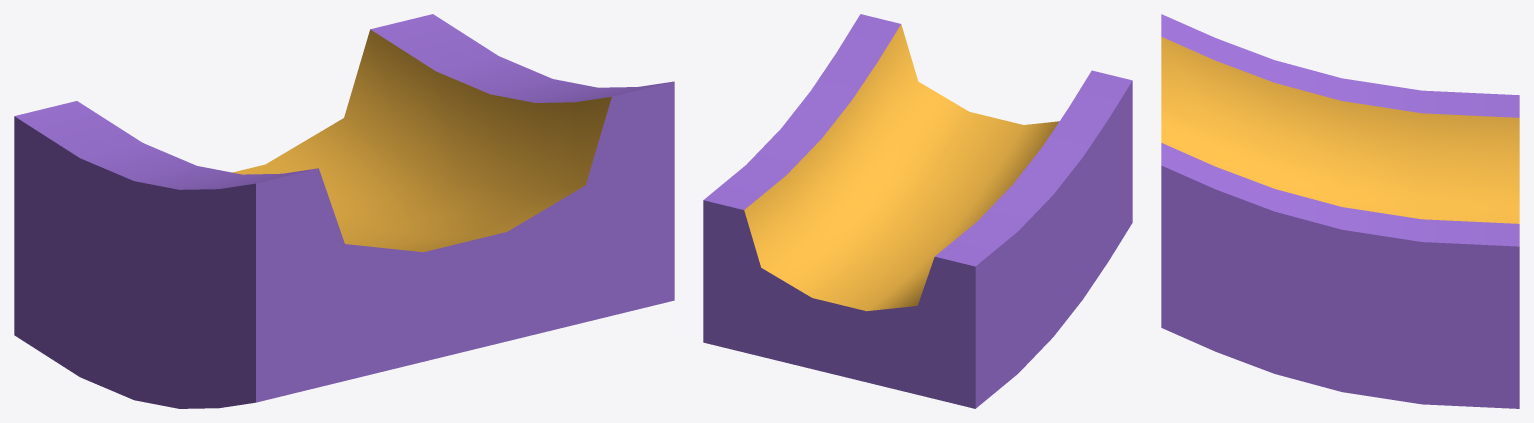
Rendered from kenney-marble-ramp-start-b.glb.
The picture shows the model from 3 angles, left to right: view 1: azimuth 30°, elevation 25°; view 2: azimuth 150°, elevation 25°; view 3: azimuth 270°, elevation 25°; orthographic projection. The views are drawn at different scales.
Visible parts, largest first — view 1: ramp-start-b; view 2: ramp-start-b; view 3: ramp-start-b.
Boxes of the visible parts, box(x1,y1,x2,y2) form: ramp-start-b: box(14, 14, 674, 408); ramp-start-b: box(703, 14, 1132, 408); ramp-start-b: box(1161, 14, 1519, 408).
Size of the model in its own units: 1 by 0.75 by 1.
Materials: 1 (1 with a texture image).
